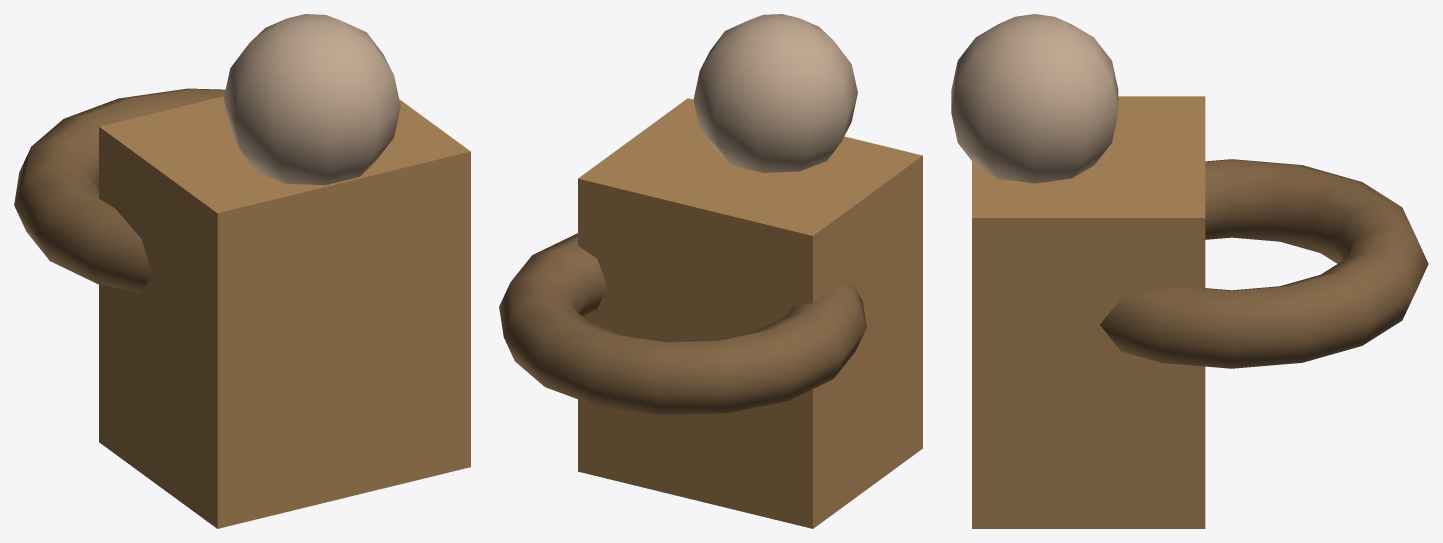
Rendered from clockwork_monster_3.glb.
3 renders of one model, left to right at view 1: azimuth 30°, elevation 25°; view 2: azimuth 150°, elevation 25°; view 3: azimuth 270°, elevation 25°, orthographic. The views are drawn at different scales.
Parts seen in each view (by area): view 1: CoreBody, Head, MOTIF_clockwork_gear; view 2: CoreBody, MOTIF_clockwork_gear, Head; view 3: CoreBody, MOTIF_clockwork_gear, Head.
Part boxes in pixels (<box>): CoreBody: <box>99,96,470,528</box>; Head: <box>223,14,400,185</box>; MOTIF_clockwork_gear: <box>14,88,225,293</box>; CoreBody: <box>578,98,922,528</box>; MOTIF_clockwork_gear: <box>499,233,866,415</box>; Head: <box>693,14,857,172</box>; CoreBody: <box>972,96,1205,528</box>; MOTIF_clockwork_gear: <box>1100,159,1428,368</box>; Head: <box>951,14,1118,183</box>.
Bounding box in the file's own units: 1.32 × 1.65 × 1.6.
